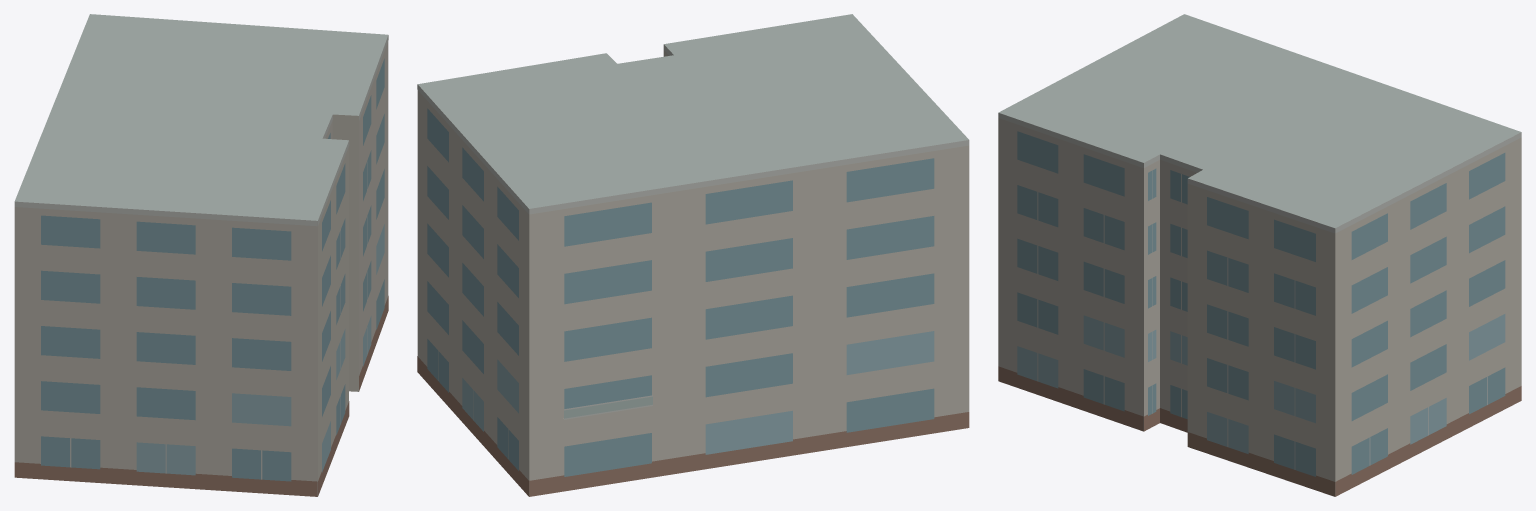
The model's file is survey-upis-32723292.glb.
3 views of the same model, side by side, from view 1: azimuth 30°, elevation 25°; view 2: azimuth 150°, elevation 25°; view 3: azimuth 270°, elevation 25° (orthographic). The views are drawn at different scales.
Parts seen in each view (by area): view 1: survey-upis-32723292.tmp; view 2: survey-upis-32723292.tmp; view 3: survey-upis-32723292.tmp.
Part boxes in pixels (x1=…): survey-upis-32723292.tmp: x1=14, y1=14, x2=388, y2=496; survey-upis-32723292.tmp: x1=417, y1=14, x2=969, y2=496; survey-upis-32723292.tmp: x1=998, y1=14, x2=1521, y2=496.
Bounding box in the file's own units: 21.4 × 12.5 × 22.09.
